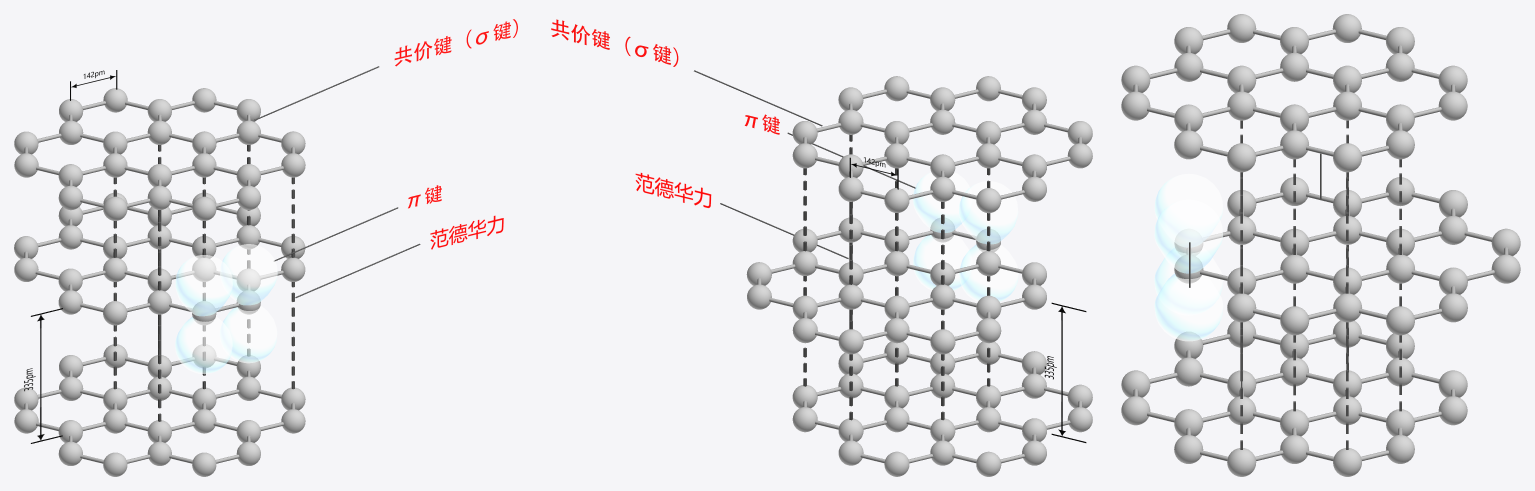
The picture shows the model from 3 angles, left to right: view 1: azimuth 30°, elevation 25°; view 2: azimuth 150°, elevation 25°; view 3: azimuth 270°, elevation 25°; orthographic projection. The views are drawn at different scales.
Parts seen in each view (by area): view 1: qiu, qiu_pai, yuanzhu, cube, gjj, fdhl; view 2: qiu, qiu_pai, yuanzhu, cube, gjj, fdhl; view 3: qiu, yuanzhu, qiu_pai, cube.
Part boxes in pixels (box(x1,y1,x2,y2)): qiu: box(14, 88, 305, 476); qiu_pai: box(175, 244, 277, 373); yuanzhu: box(24, 101, 295, 463); cube: box(113, 145, 294, 421); gjj: box(394, 19, 517, 66); fdhl: box(430, 215, 503, 249); qiu: box(746, 76, 1092, 476); qiu_pai: box(913, 172, 1018, 301); yuanzhu: box(757, 89, 1082, 463); cube: box(803, 134, 990, 420); gjj: box(551, 19, 678, 66); fdhl: box(635, 172, 711, 207); qiu: box(1121, 14, 1520, 476); yuanzhu: box(1133, 29, 1508, 461); qiu_pai: box(1154, 174, 1223, 341); cube: box(1240, 120, 1401, 449).
Bounding box in the file's own units: 188 × 109 × 107.
9 materials, 5 textured.
